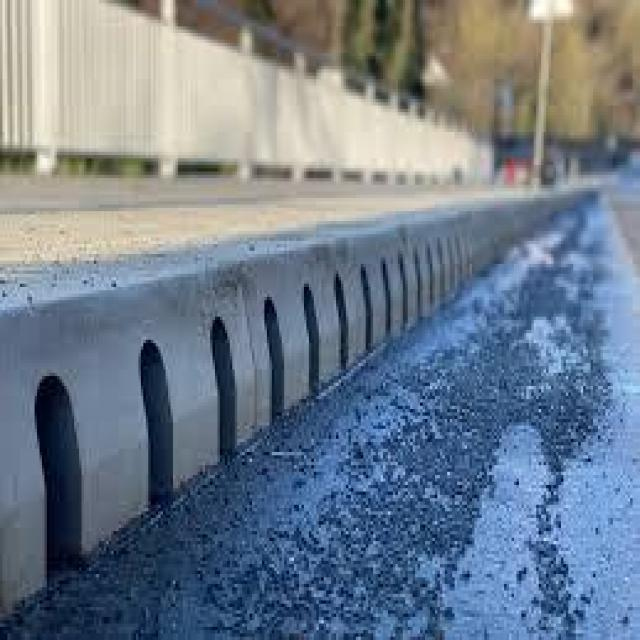curb: (1, 192, 600, 627)
